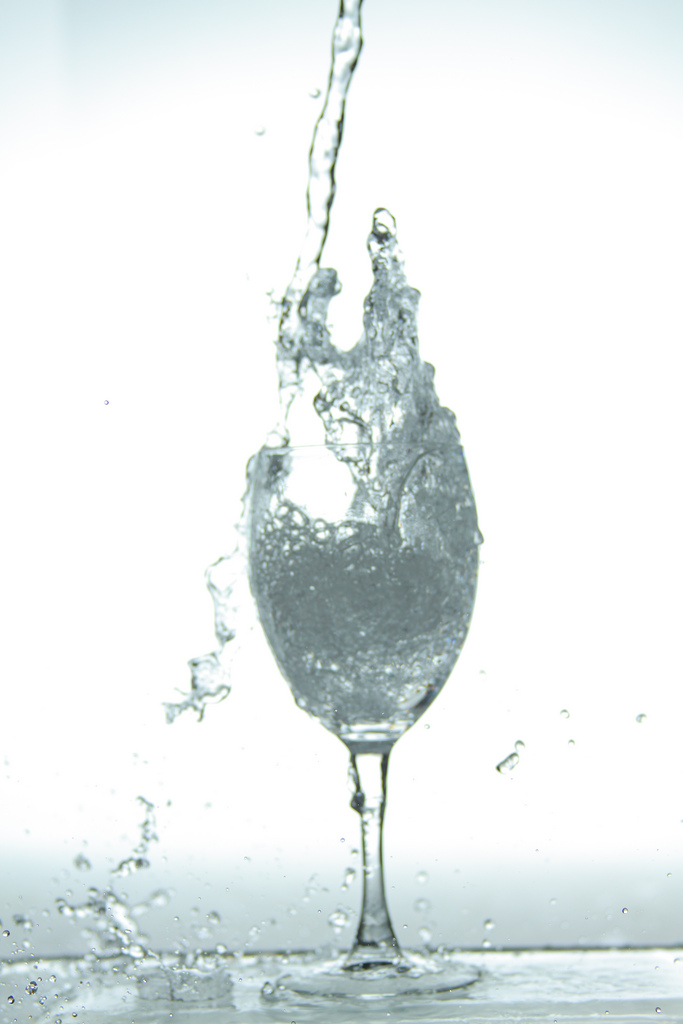glass of water: (239, 377, 524, 1024)
